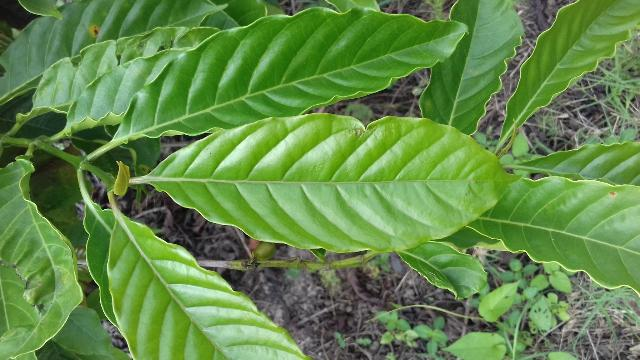healthy: (130, 110, 527, 252)
